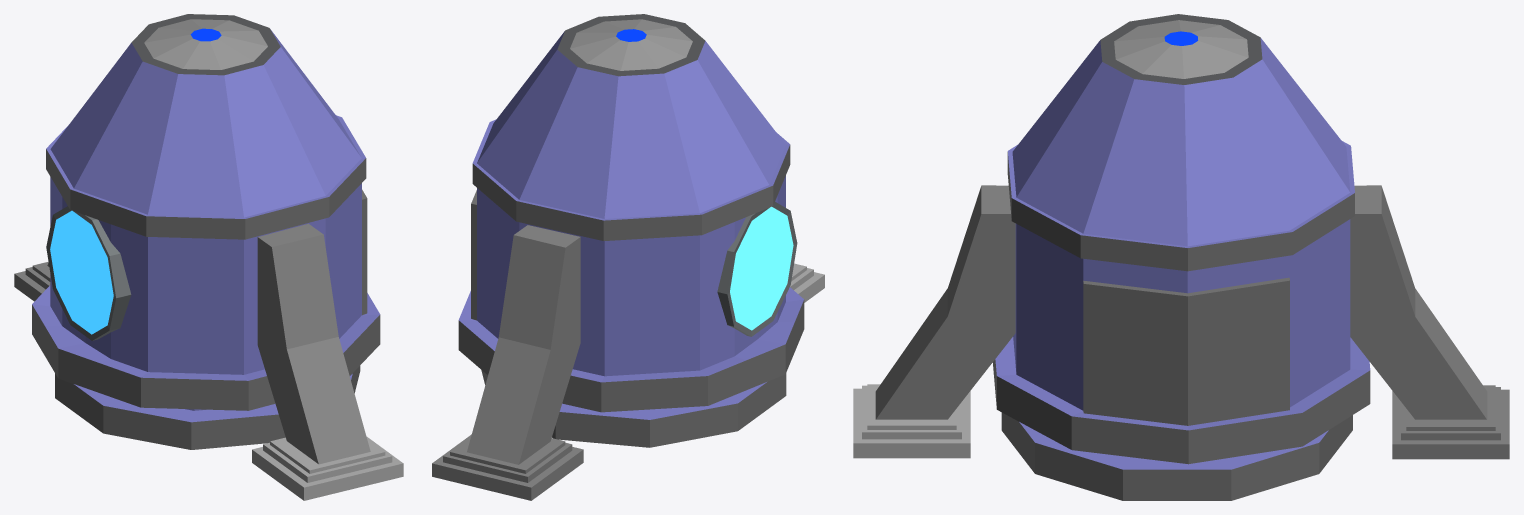
File: Rocket.fbx
3 views of the same model, side by side, from view 1: azimuth 30°, elevation 25°; view 2: azimuth 150°, elevation 25°; view 3: azimuth 270°, elevation 25° (orthographic). The views are drawn at different scales.
Parts seen in each view (by area): view 1: Rocket, Arm, Window, Arm.001; view 2: Rocket, Arm.001, Window, Arm; view 3: Rocket, Arm, Arm.001.
Boxes of the visible parts, bbox=[...] form: Rocket: bbox=[32, 14, 380, 449]; Arm: bbox=[252, 223, 403, 500]; Window: bbox=[46, 206, 131, 340]; Arm.001: bbox=[14, 261, 50, 301]; Rocket: bbox=[458, 14, 804, 447]; Arm.001: bbox=[432, 225, 583, 500]; Window: bbox=[717, 202, 797, 336]; Arm: bbox=[790, 263, 824, 302]; Rocket: bbox=[992, 14, 1370, 500]; Arm: bbox=[853, 185, 1015, 458]; Arm.001: bbox=[1350, 185, 1509, 459].
Bounding box in the file's own units: 224 × 246 × 374.
